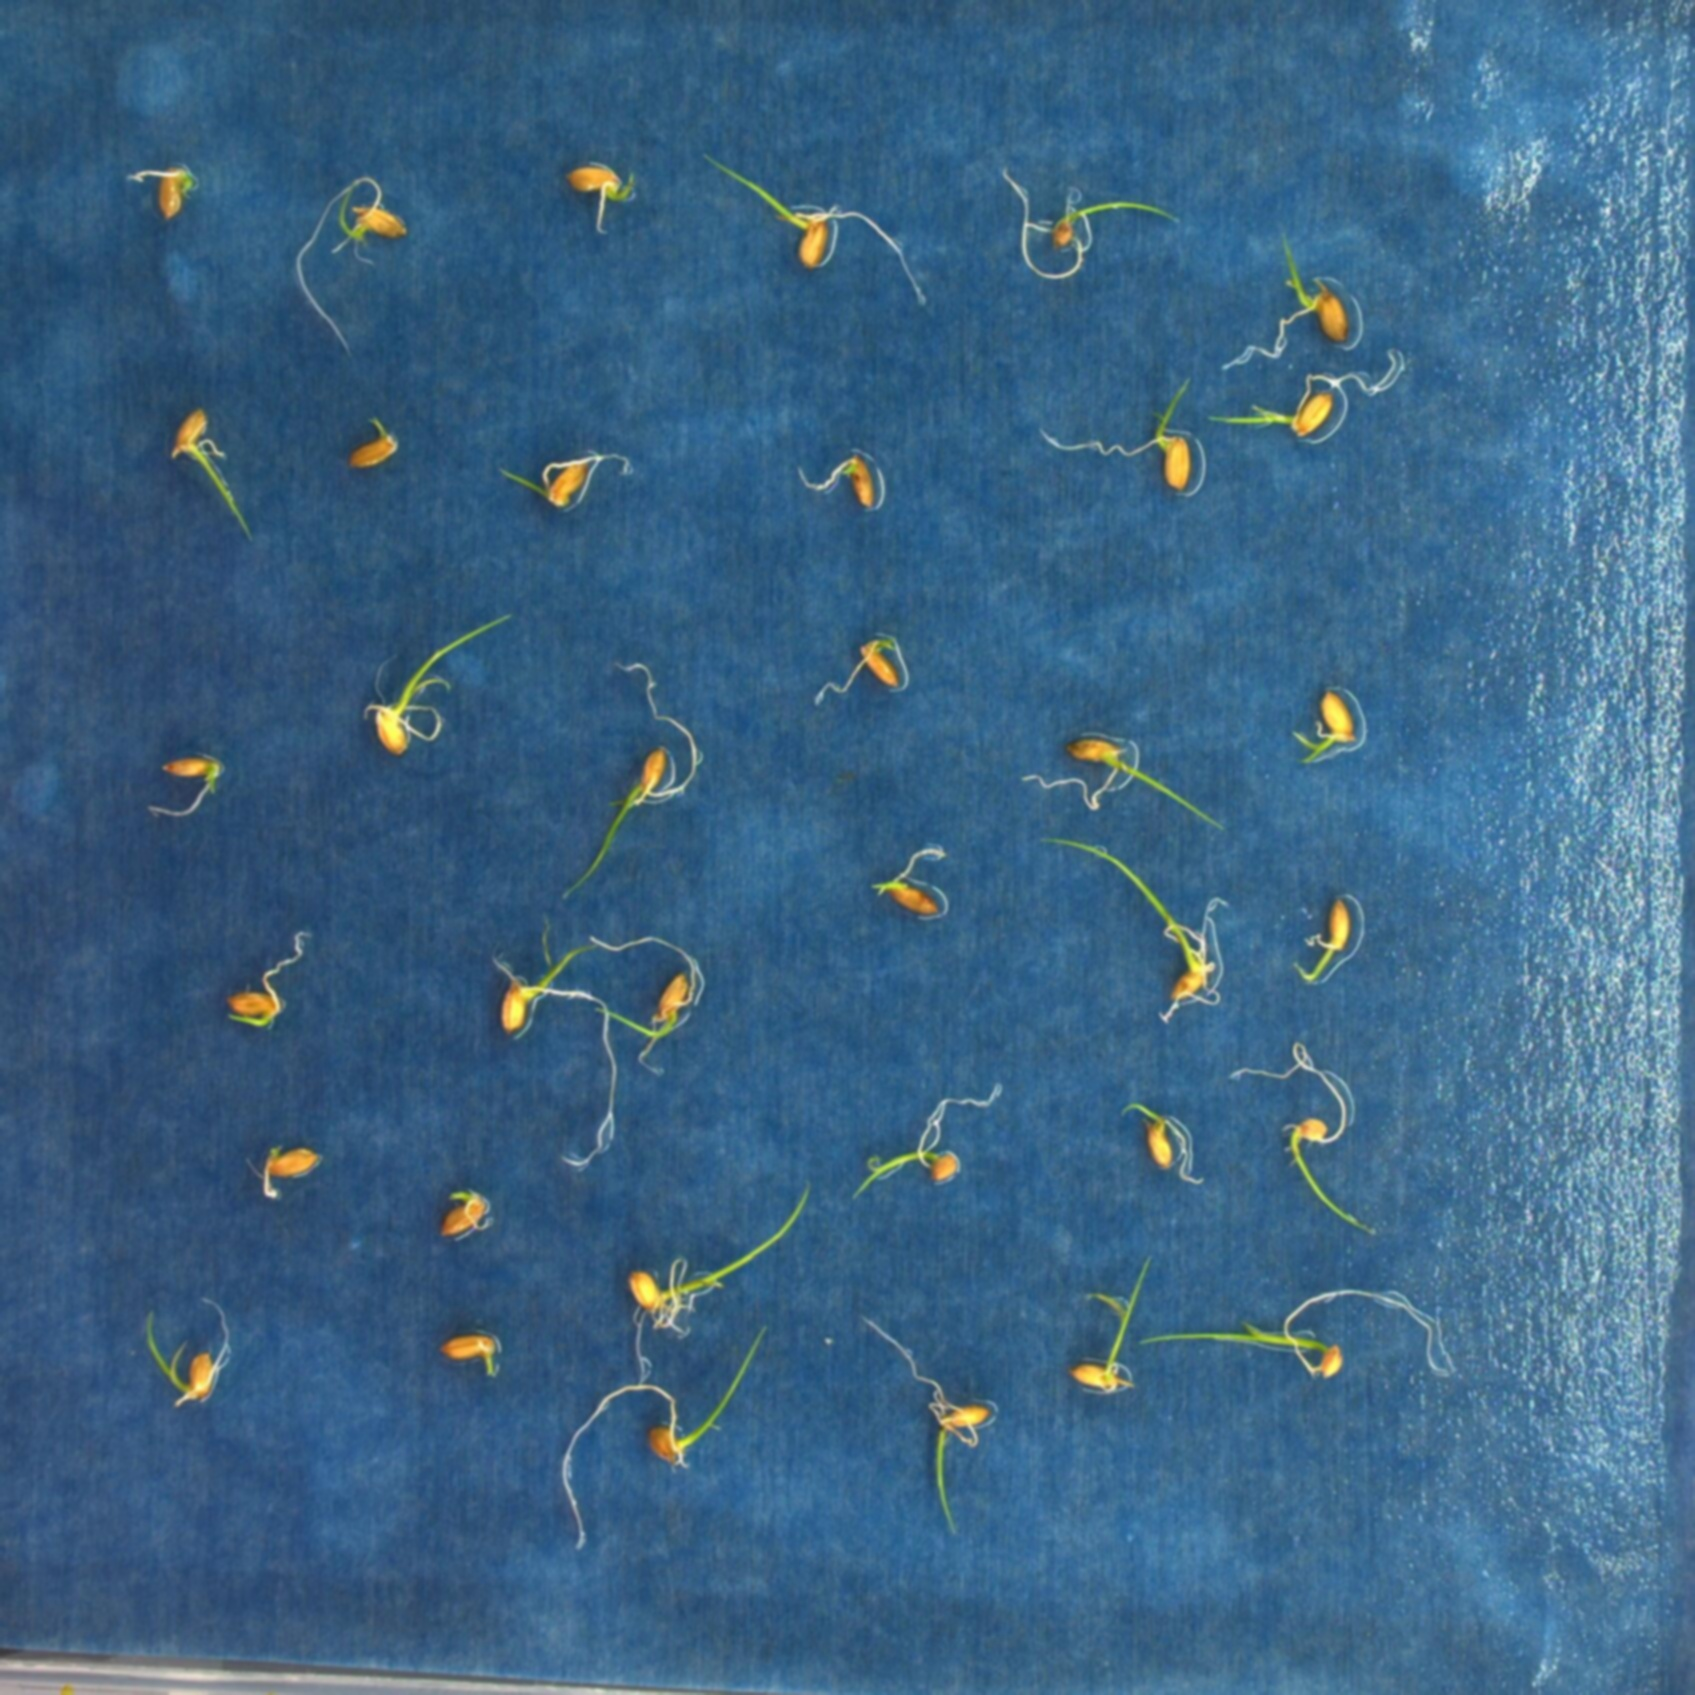not sprout: (1114, 1094, 1211, 1197), (815, 630, 917, 709), (789, 445, 889, 520), (869, 838, 955, 924), (241, 1139, 328, 1212), (151, 750, 234, 820), (130, 160, 210, 230), (335, 410, 411, 477), (435, 1183, 495, 1250), (439, 1330, 509, 1381)
sprout: (557, 1326, 775, 1558), (1015, 834, 1239, 1028), (702, 147, 938, 324), (557, 658, 712, 910), (627, 1180, 815, 1385), (1127, 1281, 1467, 1391), (1226, 1038, 1389, 1250), (858, 1312, 998, 1551), (487, 924, 619, 1177), (1020, 723, 1243, 844), (360, 607, 518, 768), (990, 158, 1186, 286), (1048, 373, 1209, 508), (582, 930, 730, 1077), (298, 174, 414, 359), (844, 1080, 1007, 1205), (1211, 355, 1419, 452), (1231, 224, 1361, 374), (155, 400, 264, 543), (1060, 1250, 1153, 1403), (147, 1301, 255, 1416), (216, 920, 315, 1040), (489, 447, 626, 520), (1291, 681, 1375, 781), (562, 154, 646, 247), (1288, 889, 1364, 989)
